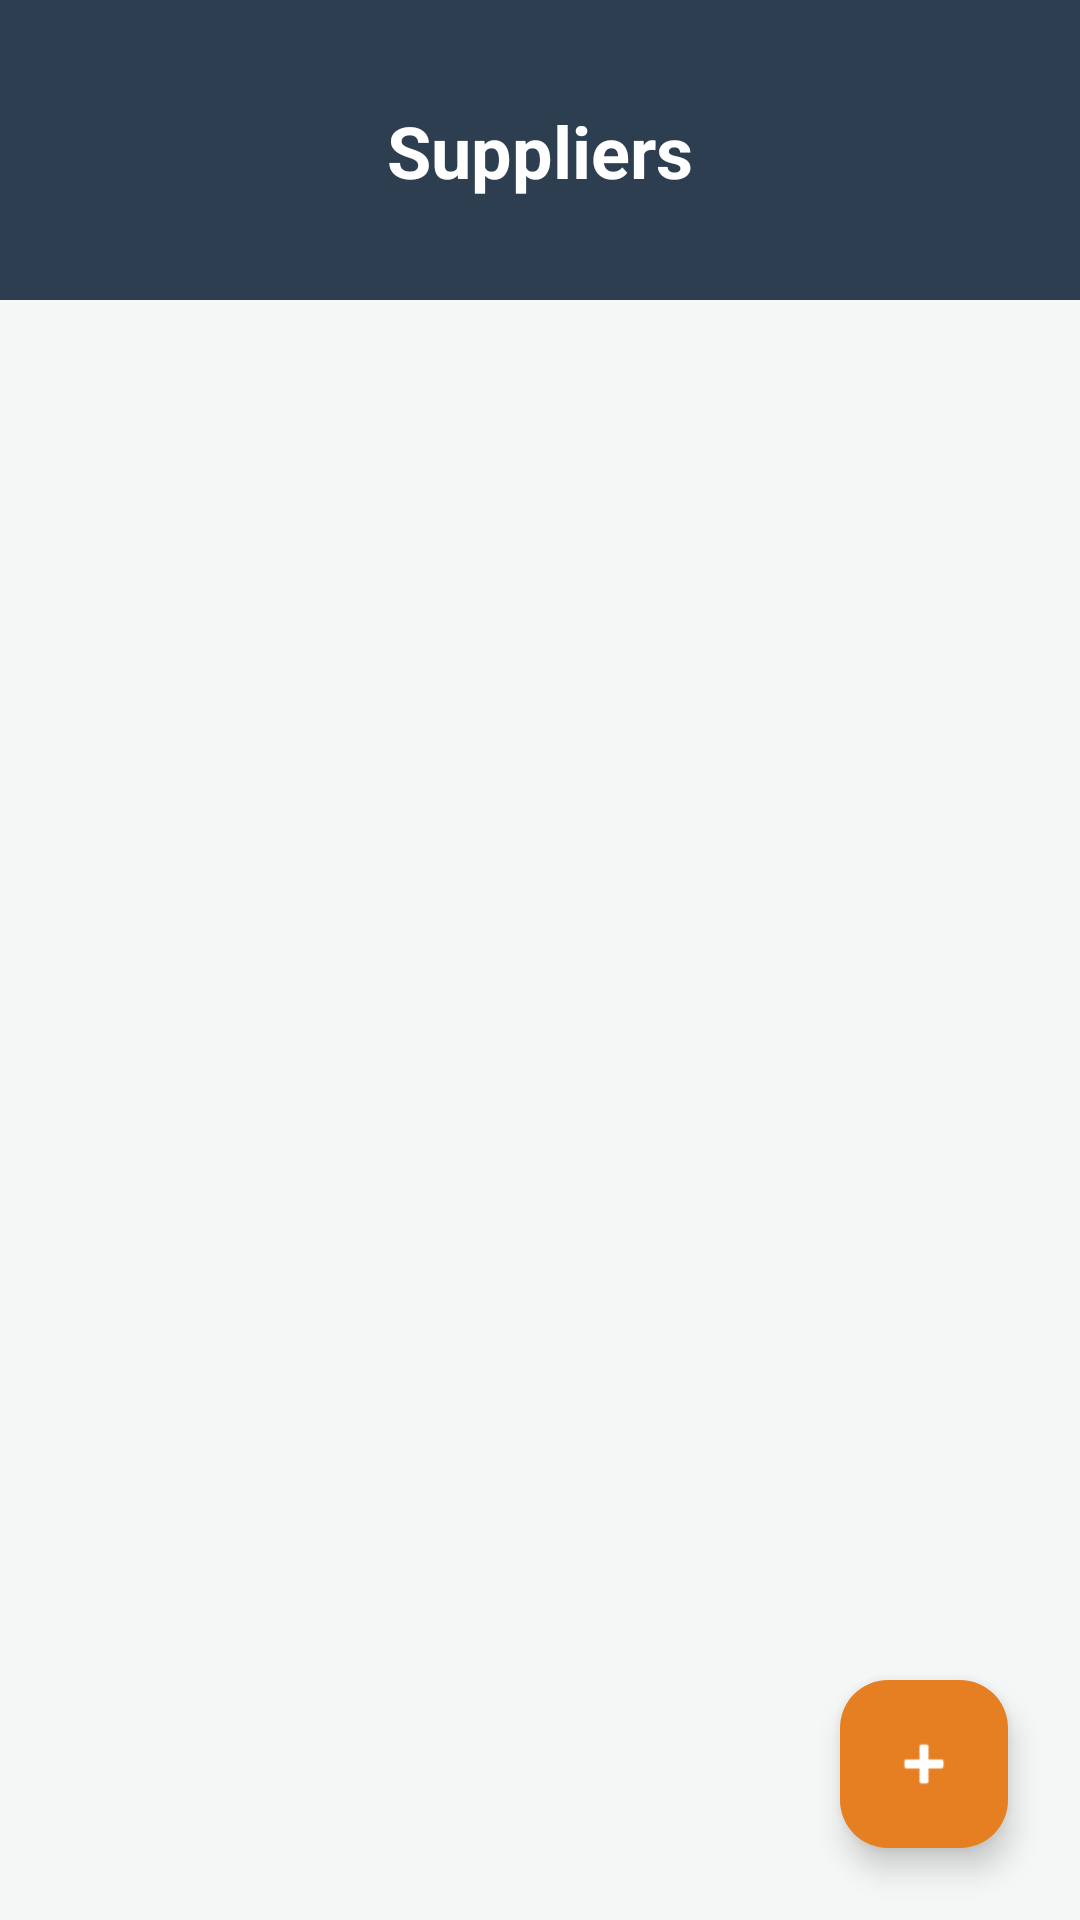

Icons on this 1080x1920 Android screen, each with the point to tap as [x,y]:
Add Supplier: [924,1764]
